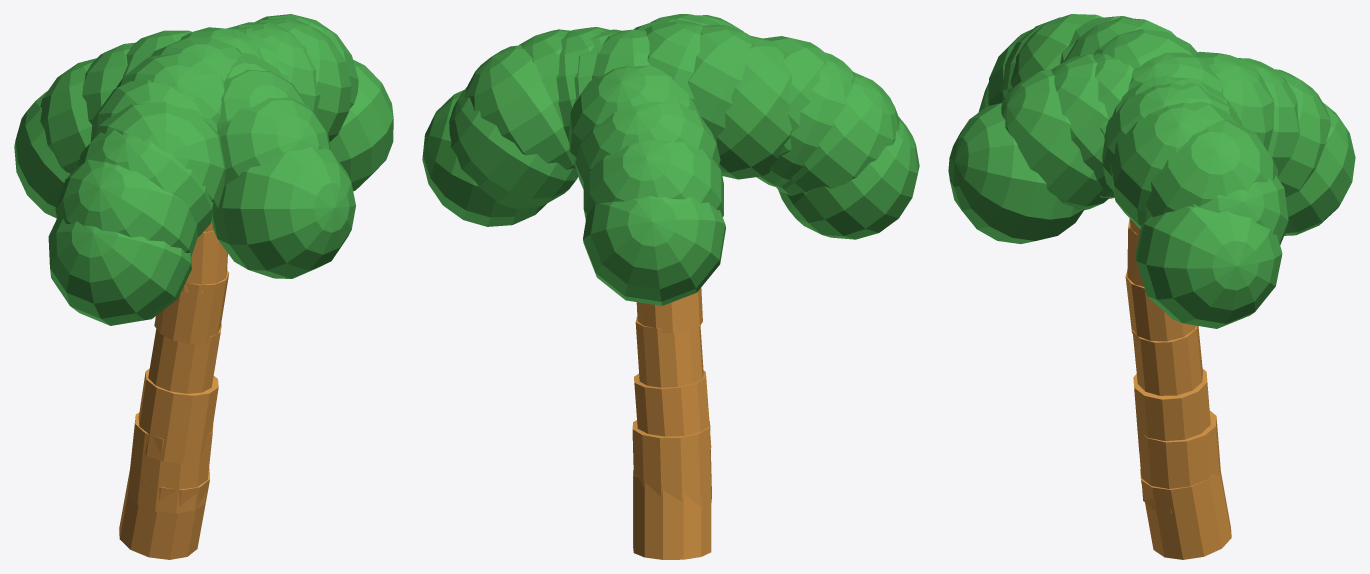
3 renders of one model, left to right at view 1: azimuth 30°, elevation 25°; view 2: azimuth 150°, elevation 25°; view 3: azimuth 270°, elevation 25°, orthographic. The views are drawn at different scales.
Visible parts, largest first — view 1: mesh_642378681, mesh_1212616530, mesh_269753078, mesh_2145389243, mesh_2040260299, mesh_753292266, mesh_193306108, mesh_2141603272, mesh_279509013, mesh_1774416199, mesh_645992047, mesh_1014636686 (+15 smaller); view 2: mesh_1663571923, mesh_1212616530, mesh_944146980, mesh_494807550, mesh_645992047, mesh_1472685309, mesh_269753078, mesh_1196922617, mesh_279509013, mesh_193306108, mesh_1774416199, mesh_2052656410 (+11 smaller); view 3: mesh_193306108, mesh_642378681, mesh_494807550, mesh_2040260299, mesh_1014636686, mesh_279509013, mesh_1663571923, mesh_461002598, mesh_1774416199, mesh_431678209, mesh_753292266, mesh_2052656410 (+15 smaller).
Boxes of the visible parts, x1,y1,x2,y2 form: mesh_642378681: (211,146,355,278); mesh_1212616530: (48,218,191,325); mesh_269753078: (55,159,197,256); mesh_2145389243: (93,102,225,213); mesh_2040260299: (217,97,330,188); mesh_753292266: (138,368,218,463); mesh_193306108: (329,60,393,191); mesh_2141603272: (77,130,213,236); mesh_279509013: (119,468,209,559); mesh_1774416199: (127,412,213,513); mesh_645992047: (40,58,96,173); mesh_1014636686: (256,18,351,141); mesh_1663571923: (583,196,725,305); mesh_1212616530: (778,116,919,239); mesh_944146980: (717,35,792,179); mesh_494807550: (464,45,575,169); mesh_645992047: (583,139,723,220); mesh_1472685309: (449,88,578,209); mesh_269753078: (776,72,899,195); mesh_1196922617: (575,101,720,189); mesh_279509013: (633,470,711,559); mesh_193306108: (422,90,546,226); mesh_1774416199: (632,420,711,506); mesh_2052656410: (568,65,698,169); mesh_193306108: (1135,206,1282,328); mesh_642378681: (948,103,1084,243); mesh_494807550: (1145,120,1277,220); mesh_2040260299: (1001,68,1109,210); mesh_1014636686: (1110,102,1236,229); mesh_279509013: (1140,469,1231,559); mesh_1663571923: (1284,102,1355,235); mesh_461002598: (1051,54,1114,198); mesh_1774416199: (1139,410,1220,513); mesh_431678209: (1132,325,1202,395); mesh_753292266: (1133,369,1210,451); mesh_2052656410: (1195,51,1274,151).
Bounding box in the file's own units: 717 × 870 × 619.
